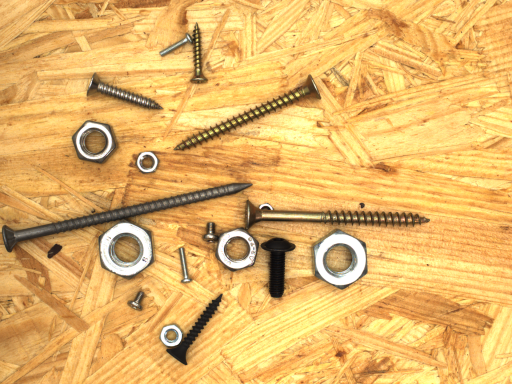screw_long: (0, 162, 267, 260)
